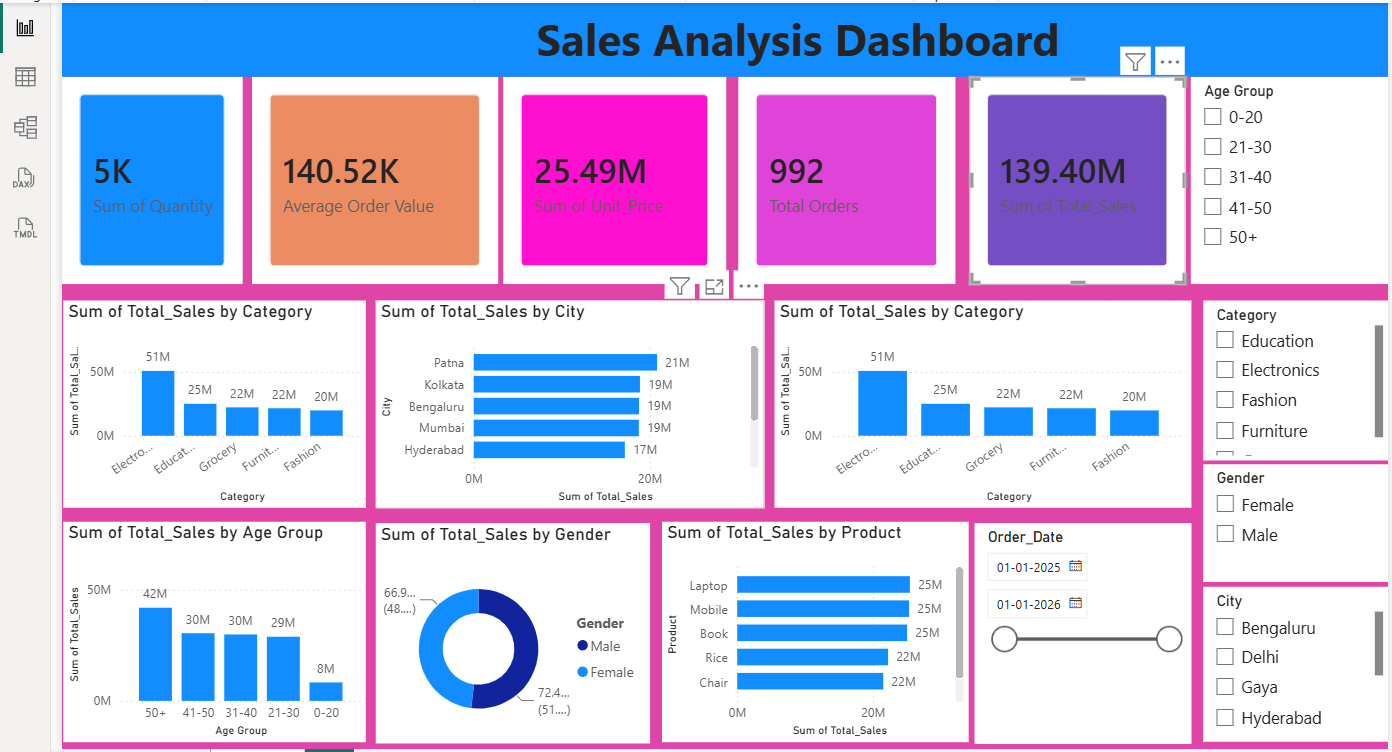

What the dashboard file says about the page in this screenshot:
{"tool":"powerbi","page":{"name":"Page 1","canvas":[1280,720],"ordinal":0},"visuals":[{"type":"cardVisual","fields":{"Data":["Sheet1.Total Orders"]},"box":[653.2,71.4,209.9,200.3],"z":1},{"type":"cardVisual","fields":{"Data":["Sum(Sheet1.Total_Sales)"]},"box":[875.5,71.4,208.6,200.3],"z":2},{"type":"cardVisual","fields":{"Data":["Sheet1.Average Order Value"]},"box":[183.9,71.4,237.4,200.3],"z":3},{"type":"cardVisual","fields":{"Data":["Sum(Sheet1.Quantity)"]},"box":[0,71.4,174.3,200.3],"z":5},{"type":"cardVisual","fields":{"Data":["Sum(Sheet1.Unit_Price)"]},"box":[425.4,71.4,215.4,200.3],"z":6},{"type":"clusteredColumnChart","fields":{"Category":["Sheet1.Category"],"Y":["Sum(Sheet1.Total_Sales)"]},"box":[1.4,286.8,292.3,200.3],"z":7},{"type":"clusteredBarChart","fields":{"Y":["Sum(Sheet1.Total_Sales)"],"Category":["Sheet1.City"]},"box":[303.3,286.8,374.6,200.3],"z":8},{"type":"clusteredColumnChart","fields":{"Category":["Sheet1.Age Group"],"Y":["Sum(Sheet1.Total_Sales)"]},"box":[1.4,500.9,292.3,212.7],"z":9},{"type":"donutChart","fields":{"Category":["Sheet1.Gender"],"Y":["Sum(Sheet1.Total_Sales)"]},"box":[303.3,502.2,264.8,212.7],"z":10},{"type":"clusteredColumnChart","fields":{"Category":["Sheet1.Category"],"Y":["Sum(Sheet1.Total_Sales)"]},"box":[687.5,286.8,402.1,200.3],"z":11},{"type":"barChart","fields":{"Category":["Sheet1.Product"],"Y":["Sum(Sheet1.Total_Sales)"]},"box":[579.1,500.9,296.4,212.7],"z":12},{"type":"slicer","fields":{"Values":["Sheet1.Age Group"]},"box":[1089.4,71.2,190.6,200.3],"z":13},{"type":"slicer","fields":{"Values":["Sheet1.Gender"]},"box":[1101.9,444.6,178.4,113.9],"z":14},{"type":"slicer","fields":{"Values":["Sheet1.City"]},"box":[1101.9,564,178.4,149.6],"z":15},{"type":"slicer","fields":{"Values":["Sheet1.Category"]},"box":[1101.5,287.1,178.6,154.4],"z":16},{"type":"slicer","fields":{"Values":["Sheet1.Order_Date"]},"box":[881,502.2,208.6,212.7],"z":17},{"type":"textbox","box":[0,0,1280.3,71.4],"z":19}]}

Visuals, with their boxes in screenshot pixels (x1, y1, x2, y2):
cardVisual - Sheet1.Total Orders: x1=737, y1=73, x2=952, y2=279
cardVisual - Sum(Sheet1.Total_Sales): x1=965, y1=73, x2=1179, y2=279
cardVisual - Sheet1.Average Order Value: x1=254, y1=73, x2=498, y2=279
cardVisual - Sum(Sheet1.Quantity): x1=65, y1=73, x2=244, y2=279
cardVisual - Sum(Sheet1.Unit_Price): x1=502, y1=73, x2=724, y2=279
clusteredColumnChart - Sheet1.Category x Sum(Sheet1.Total_Sales): x1=67, y1=295, x2=367, y2=501
clusteredBarChart - Sum(Sheet1.Total_Sales) x Sheet1.City: x1=377, y1=295, x2=762, y2=501
clusteredColumnChart - Sheet1.Age Group x Sum(Sheet1.Total_Sales): x1=67, y1=515, x2=367, y2=733
donutChart - Sheet1.Gender x Sum(Sheet1.Total_Sales): x1=377, y1=516, x2=649, y2=735
clusteredColumnChart - Sheet1.Category x Sum(Sheet1.Total_Sales): x1=772, y1=295, x2=1185, y2=501
barChart - Sheet1.Product x Sum(Sheet1.Total_Sales): x1=660, y1=515, x2=965, y2=733
slicer - Sheet1.Age Group: x1=1185, y1=73, x2=1381, y2=279
slicer - Sheet1.Gender: x1=1198, y1=457, x2=1381, y2=574
slicer - Sheet1.City: x1=1198, y1=580, x2=1381, y2=733
slicer - Sheet1.Category: x1=1197, y1=295, x2=1381, y2=454
slicer - Sheet1.Order_Date: x1=971, y1=516, x2=1185, y2=735
textbox: x1=65, y1=0, x2=1381, y2=73
